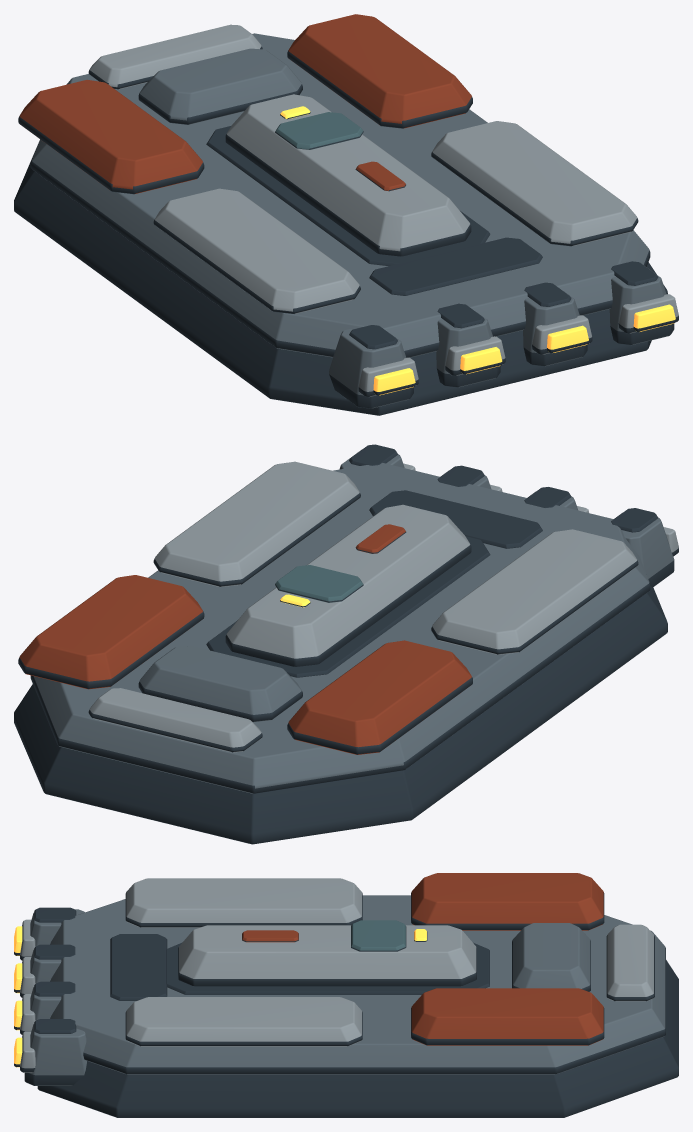
The model's file is enemy-super-8slot.glb.
3 views of the same model, one above another, from view 1: azimuth 30°, elevation 25°; view 2: azimuth 150°, elevation 25°; view 3: azimuth 270°, elevation 25° (orthographic). The views are drawn at different scales.
Parts seen in each view (by area): view 1: Armored deck, Graphite keel, Command spine, Citadel side plate, Citadel side plate.001, Forward armored tower.001, Forward armored tower, Citadel forward shelf, Citadel aft recess, Blunt bow cap, Recessed command well, Engine cowling (+17 smaller); view 2: Armored deck, Graphite keel, Command spine, Citadel side plate, Citadel side plate.001, Forward armored tower, Forward armored tower.001, Citadel forward shelf, Blunt bow cap, Recessed command well, Citadel aft recess, Recessed bridge glass (+6 smaller); view 3: Armored deck, Graphite keel, Command spine, Citadel side plate.001, Citadel side plate, Forward armored tower.001, Forward armored tower, Citadel forward shelf, Citadel aft recess, Blunt bow cap, Recessed command well, Engine cowling.003 (+13 smaller).
Part boxes in pixels (bbox=[...]): Armored deck: bbox=[30, 33, 650, 357]; Graphite keel: bbox=[14, 145, 667, 415]; Command spine: bbox=[225, 94, 471, 256]; Citadel side plate: bbox=[153, 188, 360, 313]; Citadel side plate.001: bbox=[431, 121, 638, 246]; Forward armored tower.001: bbox=[287, 14, 472, 128]; Forward armored tower: bbox=[18, 79, 204, 194]; Citadel forward shelf: bbox=[138, 48, 302, 124]; Citadel aft recess: bbox=[369, 237, 542, 295]; Blunt bow cap: bbox=[88, 24, 262, 89]; Recessed command well: bbox=[206, 126, 490, 266]; Engine cowling: bbox=[329, 329, 413, 408]; Armored deck: bbox=[30, 463, 650, 793]; Graphite keel: bbox=[14, 586, 667, 844]; Command spine: bbox=[225, 504, 471, 666]; Citadel side plate: bbox=[431, 529, 638, 654]; Citadel side plate.001: bbox=[153, 461, 360, 586]; Forward armored tower: bbox=[287, 640, 472, 754]; Forward armored tower.001: bbox=[18, 575, 204, 689]; Citadel forward shelf: bbox=[138, 646, 302, 722]; Blunt bow cap: bbox=[88, 688, 262, 752]; Recessed command well: bbox=[206, 536, 490, 677]; Citadel aft recess: bbox=[369, 490, 542, 548]; Recessed bridge glass: bbox=[275, 565, 363, 602]; Armored deck: bbox=[50, 895, 665, 1074]; Graphite keel: bbox=[37, 960, 678, 1117]; Command spine: bbox=[178, 925, 476, 986]; Citadel side plate.001: bbox=[125, 997, 362, 1046]; Citadel side plate: bbox=[125, 878, 362, 927]; Forward armored tower.001: bbox=[411, 988, 604, 1045]; Forward armored tower: bbox=[411, 873, 604, 930]; Citadel forward shelf: bbox=[512, 923, 590, 991]; Citadel aft recess: bbox=[110, 934, 167, 1000]; Blunt bow cap: bbox=[606, 924, 654, 1001]; Recessed command well: bbox=[166, 942, 489, 994]; Engine cowling.003: bbox=[24, 1024, 86, 1085].
Size of the model in its own units: 4.6 by 1.25 by 7.57.
